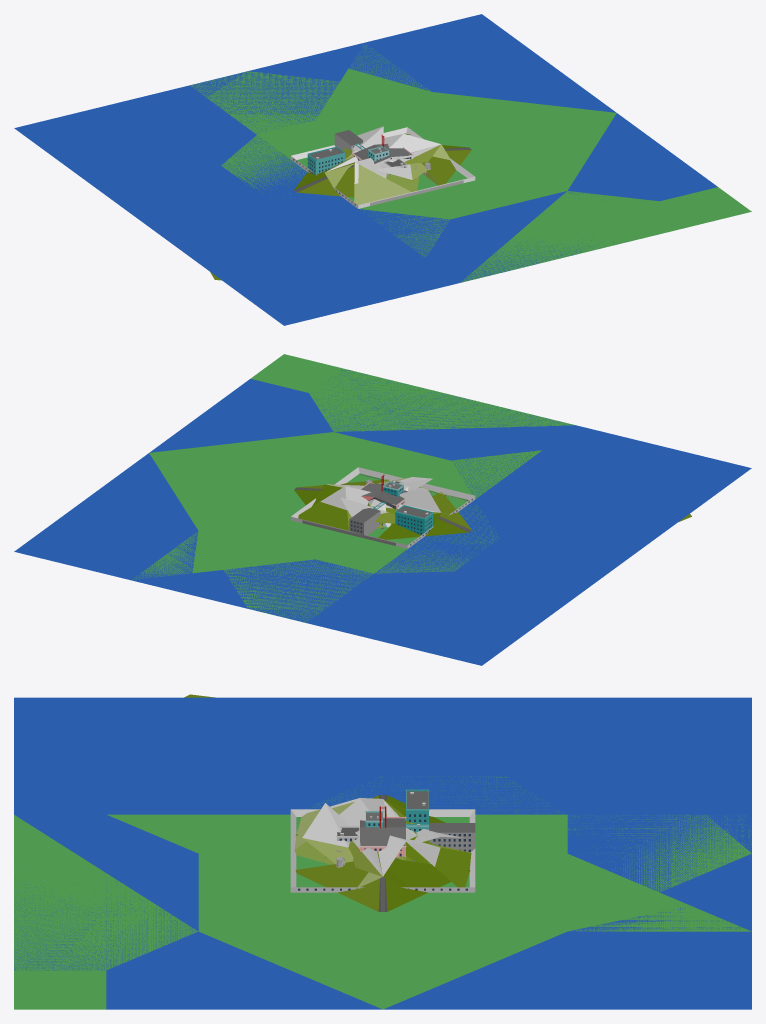
3 renders of one model, top to bottom at view 1: azimuth 30°, elevation 25°; view 2: azimuth 150°, elevation 25°; view 3: azimuth 270°, elevation 25°, orthographic. The views are drawn at different scales.
Visible parts, largest first — view 1: uo_059_lod0, uo_058_lod0, uo_001_lod0, uo_060_lod0, uo_061_lod0, uo_002_lod0, uo_057_lod0, uo_003_lod0, uo_062_lod0_s1v0, uo_087_lod0, uo_070_lod0, uo_029_lod0 (+2 smaller); view 2: uo_059_lod0, uo_058_lod0, uo_001_lod0, uo_060_lod0, uo_002_lod0, uo_061_lod0, uo_057_lod0, uo_090_lod0, uo_062_lod0_s1v0, uo_087_lod0, uo_029_lod0, uo_003_lod0 (+1 smaller); view 3: uo_058_lod0, uo_059_lod0, uo_001_lod0, uo_060_lod0, uo_002_lod0, uo_057_lod0, uo_061_lod0, uo_070_lod0, uo_090_lod0, uo_029_lod0, uo_062_lod0_s1v0, uo_003_lod0 (+6 smaller).
Part boxes in pixels (<box>): uo_059_lod0: <box>17,113,717,325</box>; uo_058_lod0: <box>257,43,751,282</box>; uo_001_lod0: <box>14,14,582,216</box>; uo_060_lod0: <box>183,88,616,297</box>; uo_061_lod0: <box>190,71,339,193</box>; uo_002_lod0: <box>190,57,582,133</box>; uo_057_lod0: <box>16,71,246,200</box>; uo_003_lod0: <box>318,158,419,204</box>; uo_062_lod0_s1v0: <box>307,130,389,174</box>; uo_087_lod0: <box>294,165,354,197</box>; uo_070_lod0: <box>382,134,471,185</box>; uo_029_lod0: <box>290,127,475,208</box>; uo_059_lod0: <box>149,370,751,663</box>; uo_058_lod0: <box>134,354,574,579</box>; uo_001_lod0: <box>14,477,614,665</box>; uo_060_lod0: <box>115,440,684,573</box>; uo_002_lod0: <box>116,477,372,622</box>; uo_061_lod0: <box>223,505,499,622</box>; uo_057_lod0: <box>249,592,582,664</box>; uo_090_lod0: <box>298,484,391,530</box>; uo_062_lod0_s1v0: <box>349,482,432,535</box>; uo_087_lod0: <box>378,492,471,539</box>; uo_029_lod0: <box>290,467,475,548</box>; uo_003_lod0: <box>391,486,463,525</box>; uo_058_lod0: <box>14,814,751,1009</box>; uo_059_lod0: <box>14,697,750,1009</box>; uo_001_lod0: <box>383,697,751,1009</box>; uo_060_lod0: <box>14,697,566,1009</box>; uo_002_lod0: <box>444,814,751,1009</box>; uo_057_lod0: <box>478,697,751,853</box>; uo_061_lod0: <box>305,776,751,892</box>; uo_070_lod0: <box>295,806,470,911</box>; uo_090_lod0: <box>358,835,471,887</box>; uo_029_lod0: <box>290,809,475,892</box>; uo_062_lod0_s1v0: <box>365,791,475,859</box>; uo_003_lod0: <box>294,798,417,864</box>.
Size of what is drawn, in the model's own units: 4139 by 288 by 4096.
